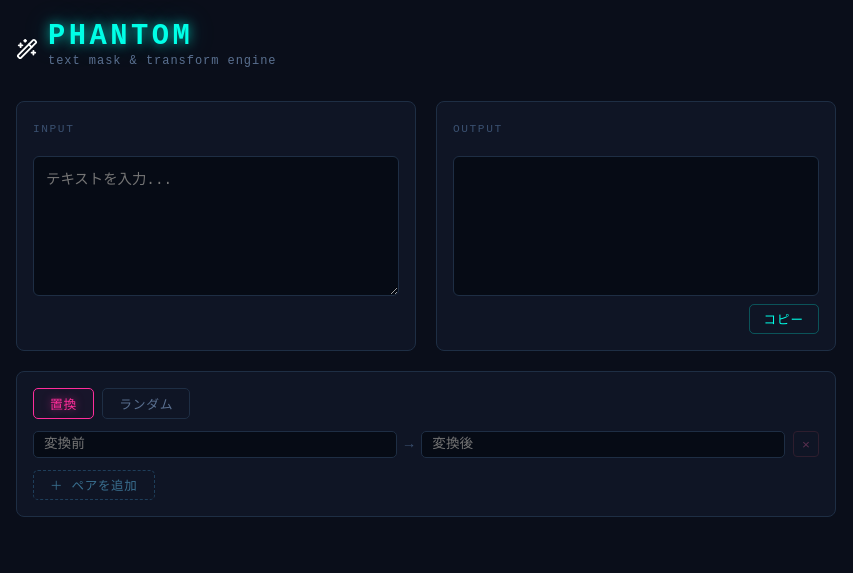
Test: 置換ペア › 「ペアを追加」ボタンで置換フォームが増える
Click the button "＋ ペアを追加".
click(94, 485)  # box [33,470,154,500]
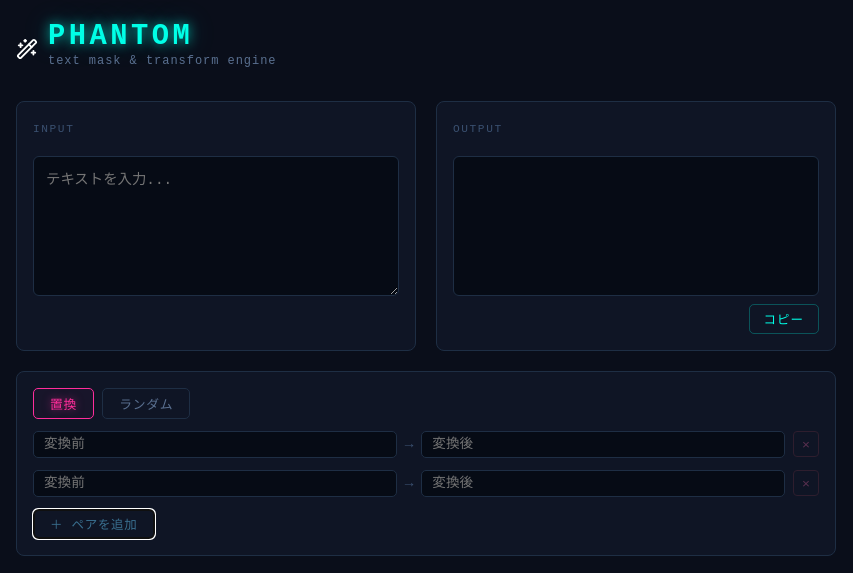
Check: the number of fields with placeholder "変換前" is 2, box [33,431,397,458]; [33,470,397,497]
